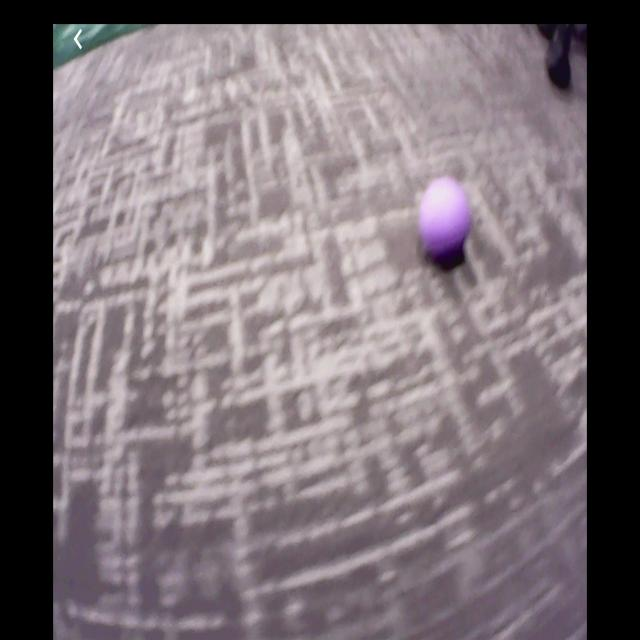ball: (421, 176, 472, 259)
